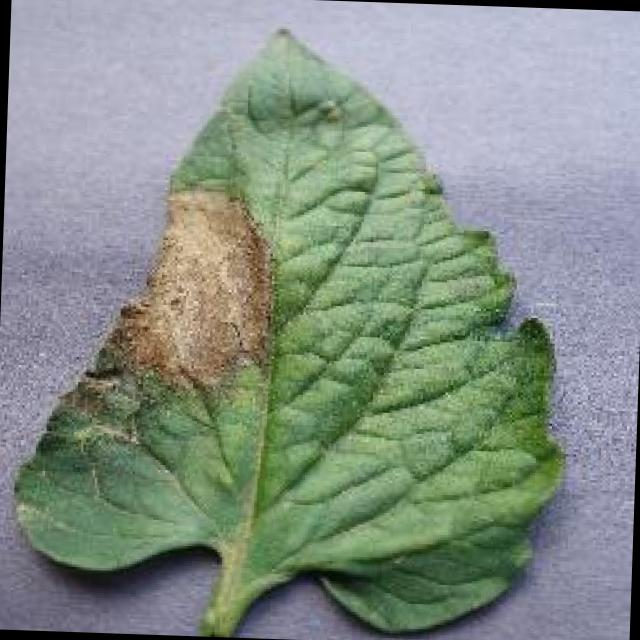Tomato_Late_Blight: (59, 180, 292, 443)
